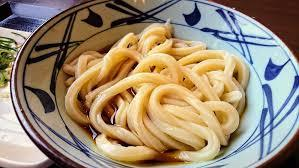bukkake: (16, 1, 296, 168)
